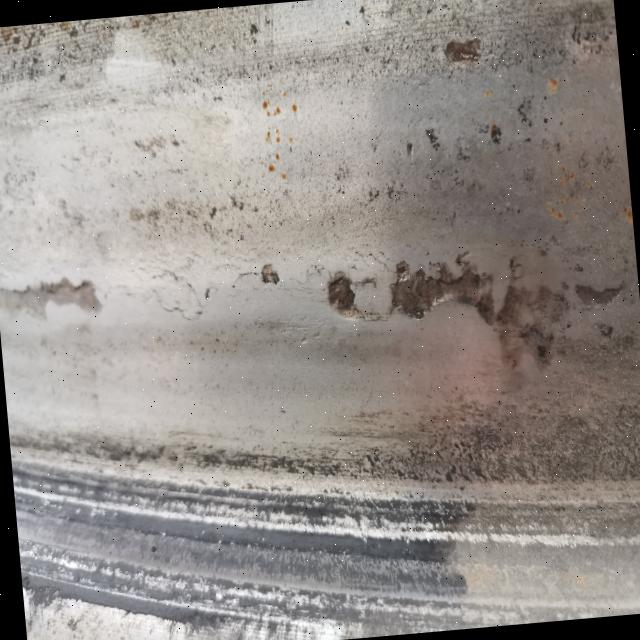Peeling: (388, 251, 496, 335), (497, 280, 565, 368), (1, 275, 106, 323), (323, 267, 383, 328), (574, 279, 628, 313), (441, 33, 486, 69), (259, 262, 284, 288), (488, 120, 507, 148), (425, 126, 443, 149)
